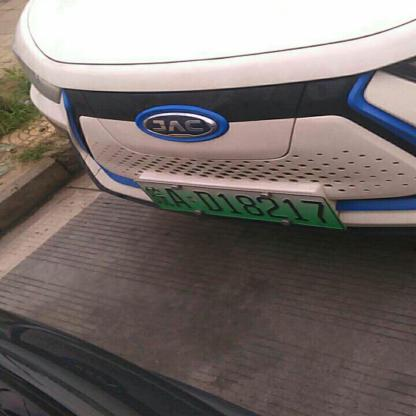lp: (132, 181, 348, 229)
